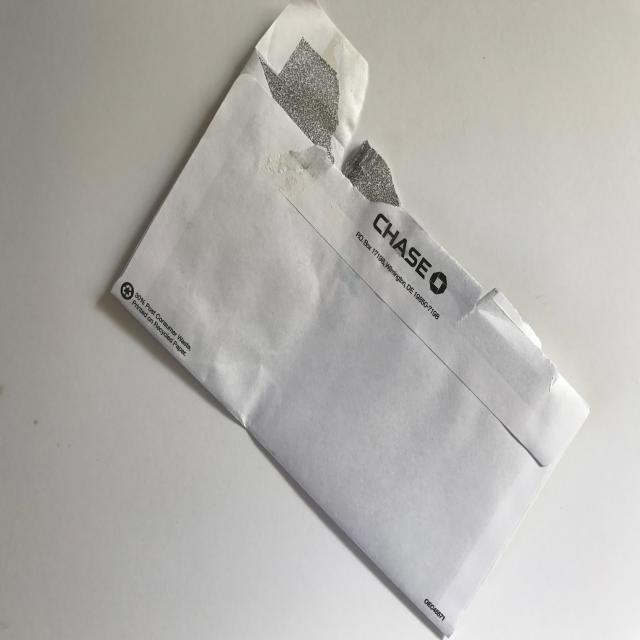paper: (82, 0, 613, 640)
